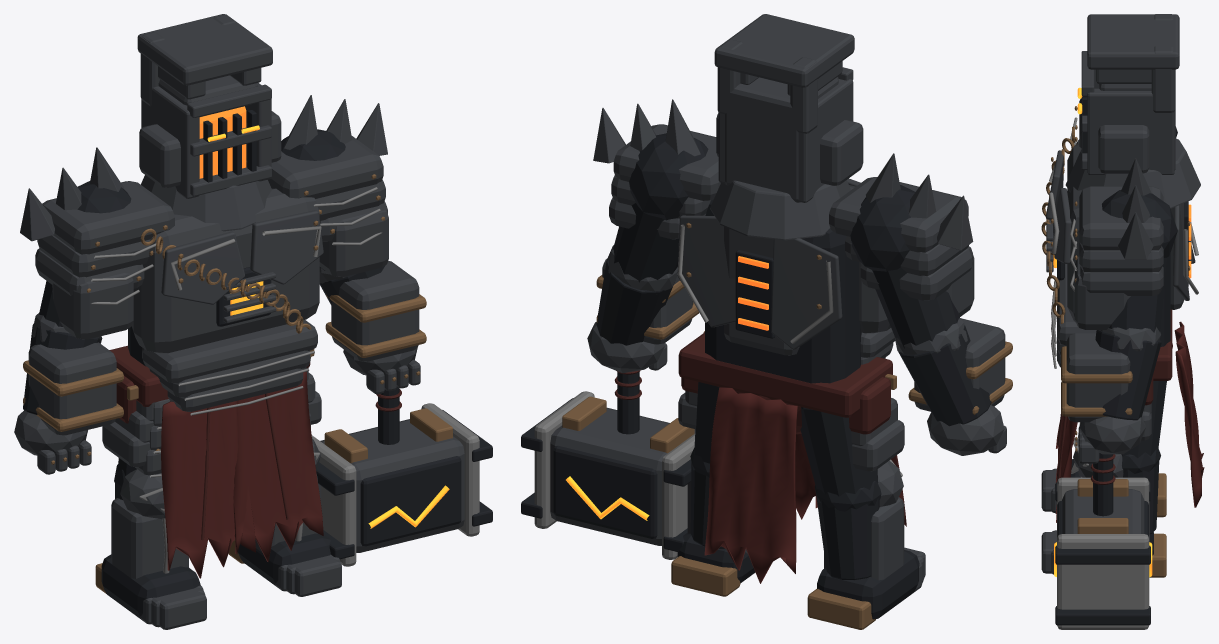
File: sol-forge-brute.glb
3 renders of one model, left to right at view 1: azimuth 30°, elevation 25°; view 2: azimuth 150°, elevation 25°; view 3: azimuth 270°, elevation 25°, orthographic. The views are drawn at different scales.
Parts seen in each view (by area): view 1: thigh armor overlapping band, ribbed gambeson, left charred apron panel, boot heel, thigh band silver lip, waist leather, rear hot vent, furnace heart; view 2: thigh armor overlapping band, ribbed gambeson, left charred apron panel, waist leather, boot heel, thigh band silver lip, rear hot vent; view 3: thigh armor overlapping band, ribbed gambeson, thigh band silver lip, boot heel, left charred apron panel, waist leather, furnace heart, rear hot vent.
Boxes of the visible parts, bbox=[...] form: thigh armor overlapping band: bbox=[14, 14, 464, 629]; ribbed gambeson: bbox=[23, 110, 492, 618]; left charred apron panel: bbox=[161, 371, 323, 578]; boot heel: bbox=[23, 174, 452, 593]; thigh band silver lip: bbox=[91, 187, 479, 573]; waist leather: bbox=[109, 345, 401, 540]; rear hot vent: bbox=[199, 106, 246, 178]; furnace heart: bbox=[207, 125, 449, 528]; thigh armor overlapping band: bbox=[550, 14, 1006, 591]; ribbed gambeson: bbox=[521, 133, 991, 619]; left charred apron panel: bbox=[704, 387, 906, 583]; waist leather: bbox=[614, 332, 892, 434]; boot heel: bbox=[562, 223, 1012, 629]; thigh band silver lip: bbox=[534, 224, 902, 559]; rear hot vent: bbox=[738, 256, 768, 330]; thigh armor overlapping band: bbox=[1041, 14, 1200, 574]; ribbed gambeson: bbox=[1055, 96, 1188, 625]; thigh band silver lip: bbox=[1049, 117, 1198, 629]; boot heel: bbox=[1041, 106, 1190, 577]; left charred apron panel: bbox=[1055, 321, 1204, 522]; waist leather: bbox=[1057, 309, 1172, 484]; furnace heart: bbox=[1053, 87, 1152, 577]; rear hot vent: bbox=[1188, 204, 1191, 278].
Bounding box in the file's own units: 3.02 × 3.5 × 1.03.
